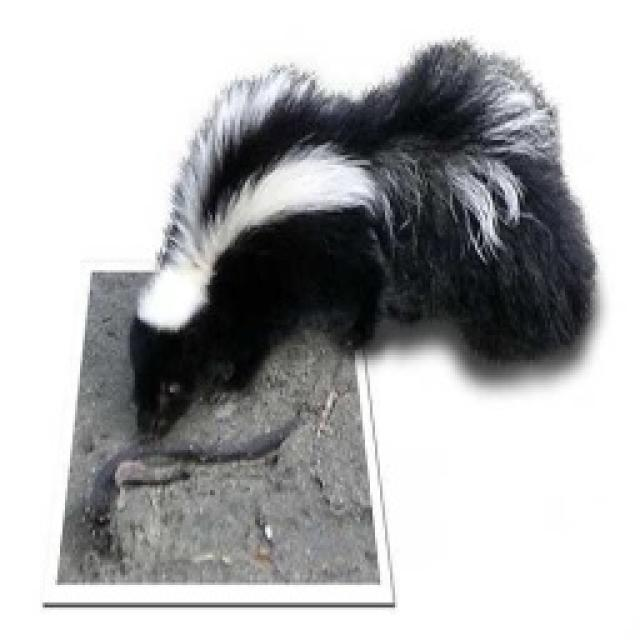Skunk: (105, 41, 597, 433)
